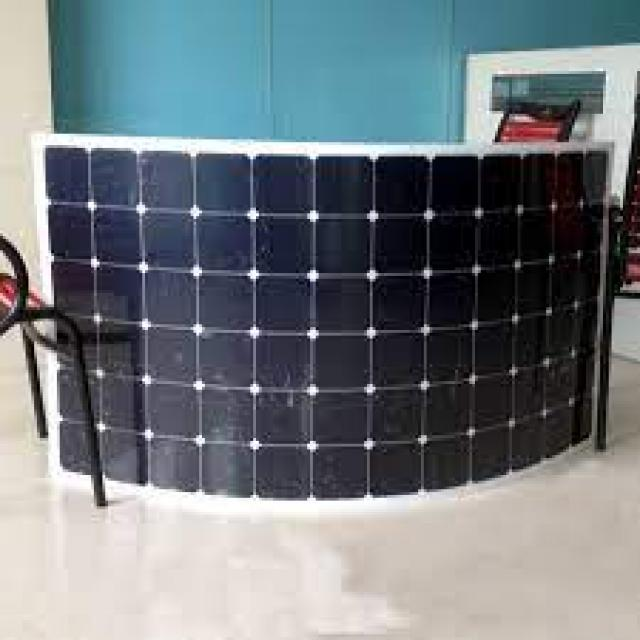no faulty: (52, 149, 600, 496)
